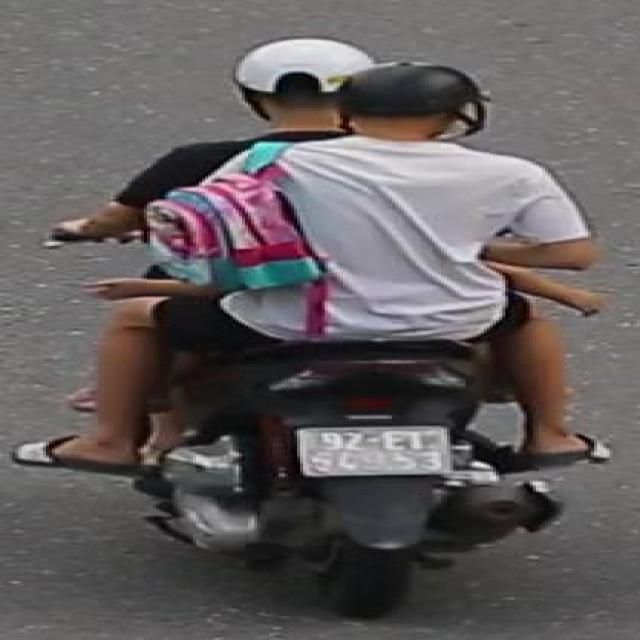LP: (292, 419, 455, 478)
helmet: (332, 60, 495, 153), (225, 32, 378, 120)
